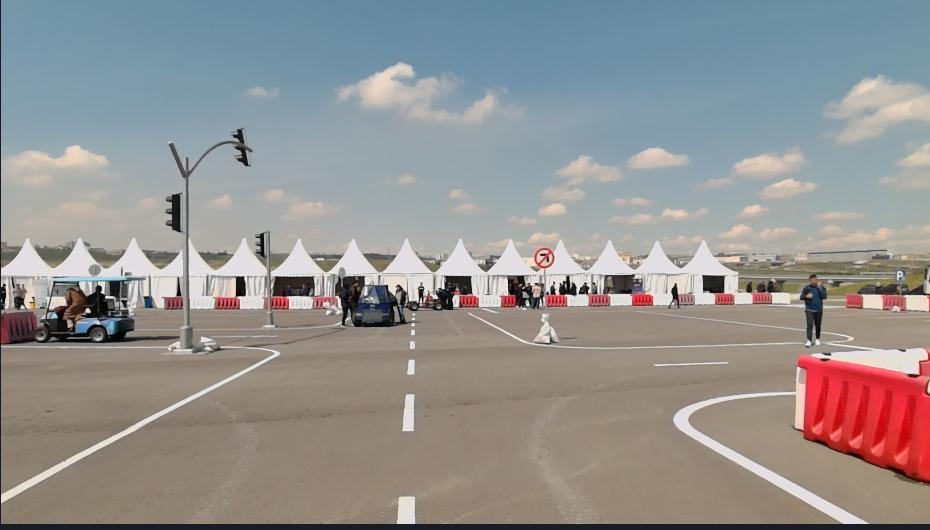nesne: (1, 308, 887, 527), (386, 309, 879, 525), (0, 326, 420, 527), (0, 342, 281, 506), (672, 389, 867, 526), (795, 353, 928, 481), (471, 309, 857, 350), (29, 274, 137, 341), (816, 345, 928, 375), (799, 270, 827, 345), (353, 284, 393, 325), (0, 306, 37, 344), (531, 311, 559, 345), (334, 279, 352, 325), (394, 493, 417, 523), (408, 290, 442, 310), (391, 284, 406, 323), (533, 245, 555, 269), (236, 295, 270, 310), (654, 359, 726, 366), (902, 293, 928, 312), (402, 394, 415, 432), (184, 294, 216, 309), (881, 291, 905, 311), (350, 278, 360, 325), (860, 292, 883, 310), (314, 295, 341, 310), (667, 280, 681, 307), (214, 294, 241, 308), (287, 295, 313, 309), (631, 288, 652, 305), (477, 292, 502, 306), (268, 293, 289, 309), (442, 279, 453, 309), (566, 294, 589, 308), (609, 293, 632, 307), (457, 292, 477, 308), (512, 280, 523, 309), (590, 292, 611, 307), (770, 291, 792, 305), (844, 289, 861, 307), (691, 293, 716, 305), (751, 289, 771, 304), (545, 293, 568, 306), (652, 291, 670, 307), (731, 291, 753, 304), (163, 297, 183, 310), (13, 283, 24, 306), (532, 281, 542, 306), (522, 282, 532, 306), (715, 292, 734, 304), (680, 291, 695, 305), (416, 280, 424, 301), (405, 361, 416, 375), (502, 294, 514, 306), (408, 341, 416, 350), (408, 330, 415, 338), (410, 321, 416, 328)
